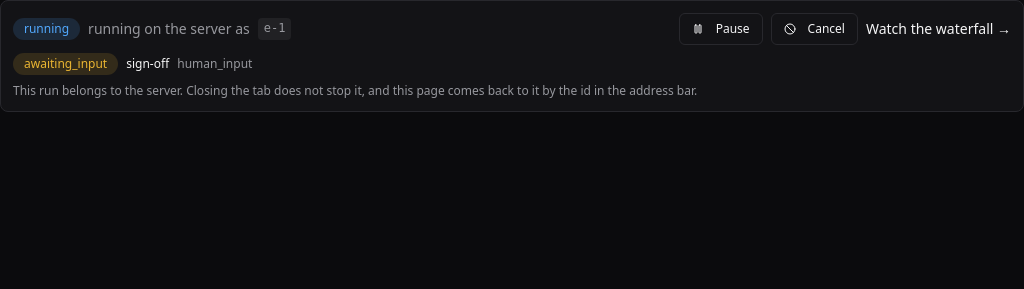
answering a step that is waiting on a person › says when a question stops being answerable, and only when it does
The width and height of the screenshot is (1024, 289).
Click the button "awaiting_input sign-off human_input": (66, 64) 13,53 -> 1011,75
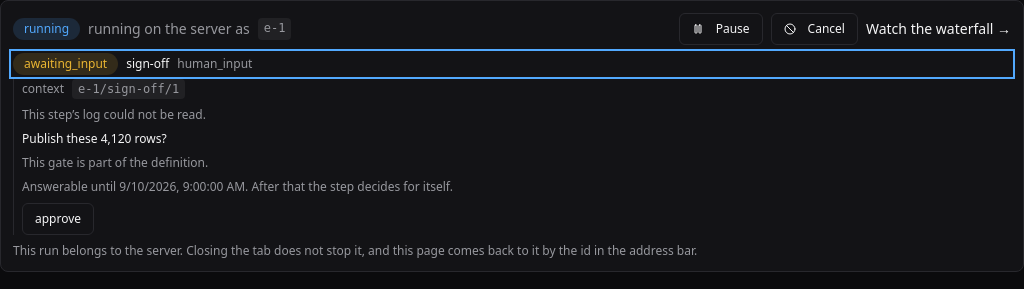
Expected: the text "Answerable until" is shown, 22,178 -> 119,195
